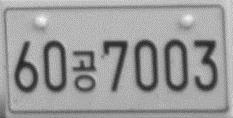0: (163, 38, 189, 91), (42, 40, 67, 91), (133, 40, 158, 91)
3: (192, 39, 219, 92)
6: (13, 39, 39, 93)
7: (102, 39, 129, 92)
공: (71, 50, 98, 92)
